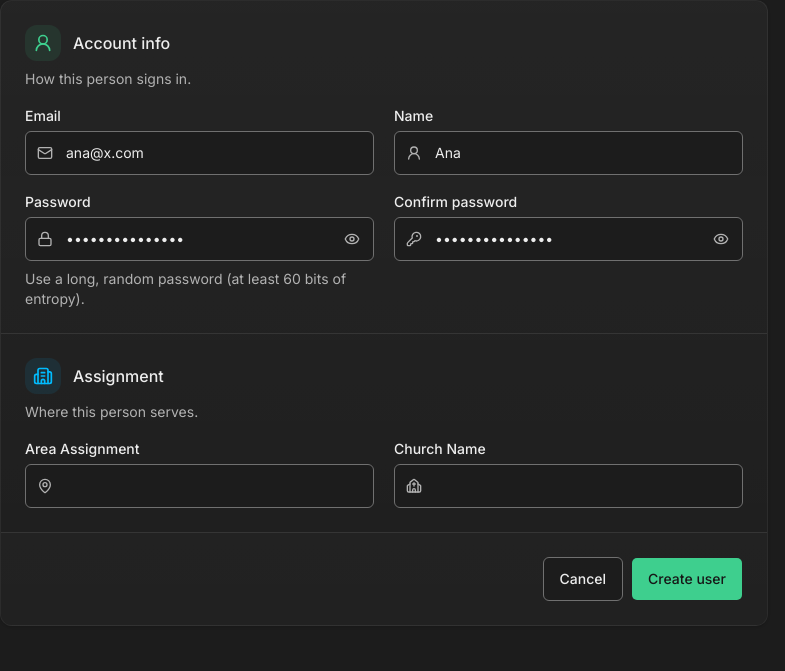
Scenario: UserForm after a failed submit › a taken email focuses the email field
Click the button "Create user" at [687, 579], box [631,557,743,601]
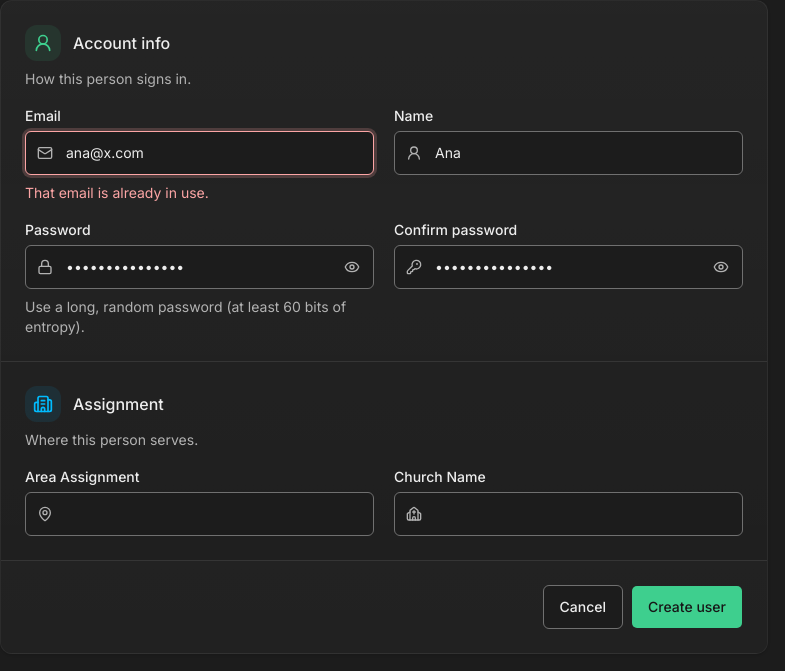
Now the text "That email is already in use." is shown, box [25,184,209,201]
